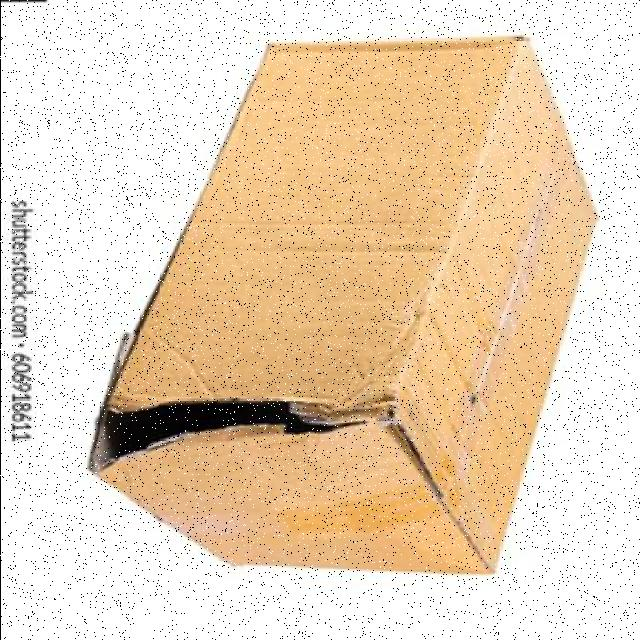defect: (91, 23, 597, 585)
